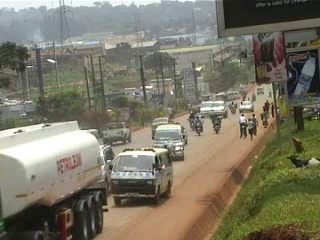Car: (96, 137, 119, 193), (148, 111, 173, 136), (209, 98, 228, 118), (236, 97, 255, 115), (196, 98, 214, 116)
Motorcycle: (210, 112, 223, 134), (192, 114, 204, 135), (186, 108, 196, 130), (228, 100, 237, 114)
